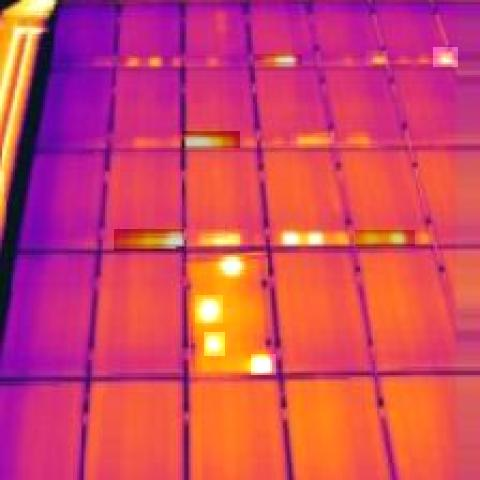fault: (114, 229, 184, 251), (269, 230, 353, 246), (186, 229, 248, 249), (182, 131, 240, 148), (356, 230, 416, 246), (216, 250, 248, 280), (116, 54, 182, 68), (195, 296, 223, 324), (337, 133, 378, 148), (253, 54, 302, 66), (290, 133, 334, 146), (251, 354, 276, 375), (204, 332, 225, 356), (433, 47, 458, 67), (366, 50, 388, 66)
